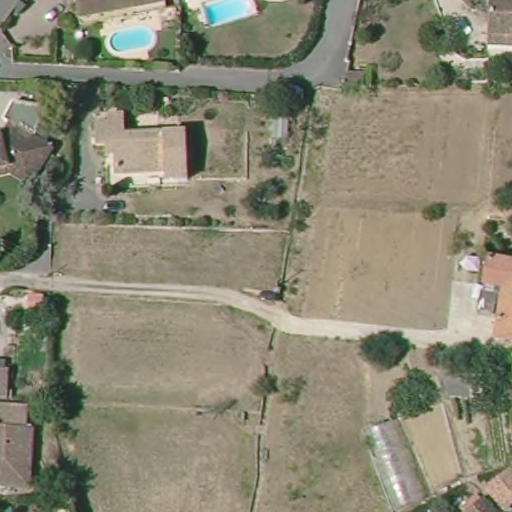pool: (101, 26, 162, 58), (201, 1, 260, 26)
